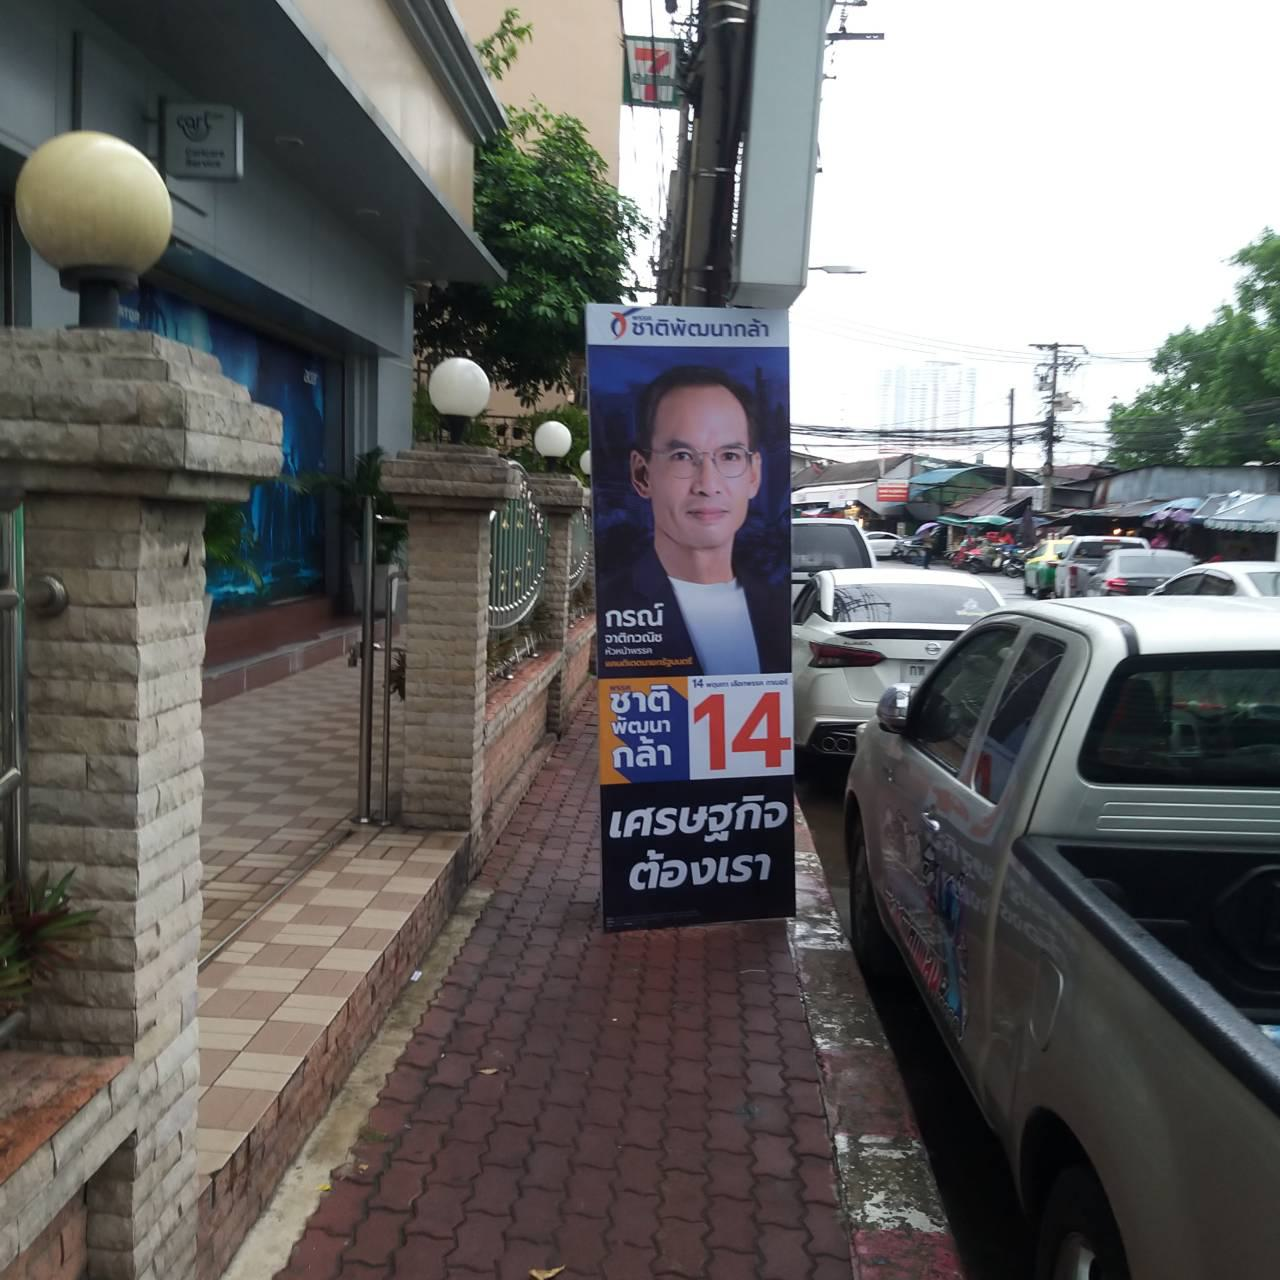Banner: (588, 301, 799, 924)
